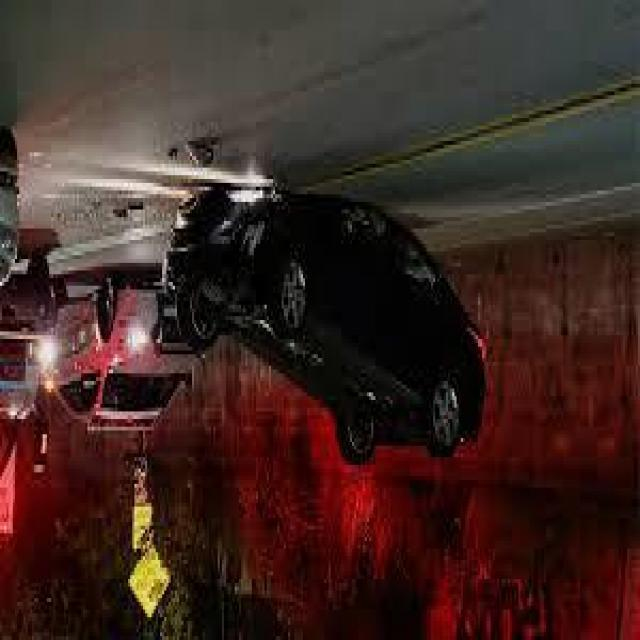severe: (163, 192, 492, 486)
